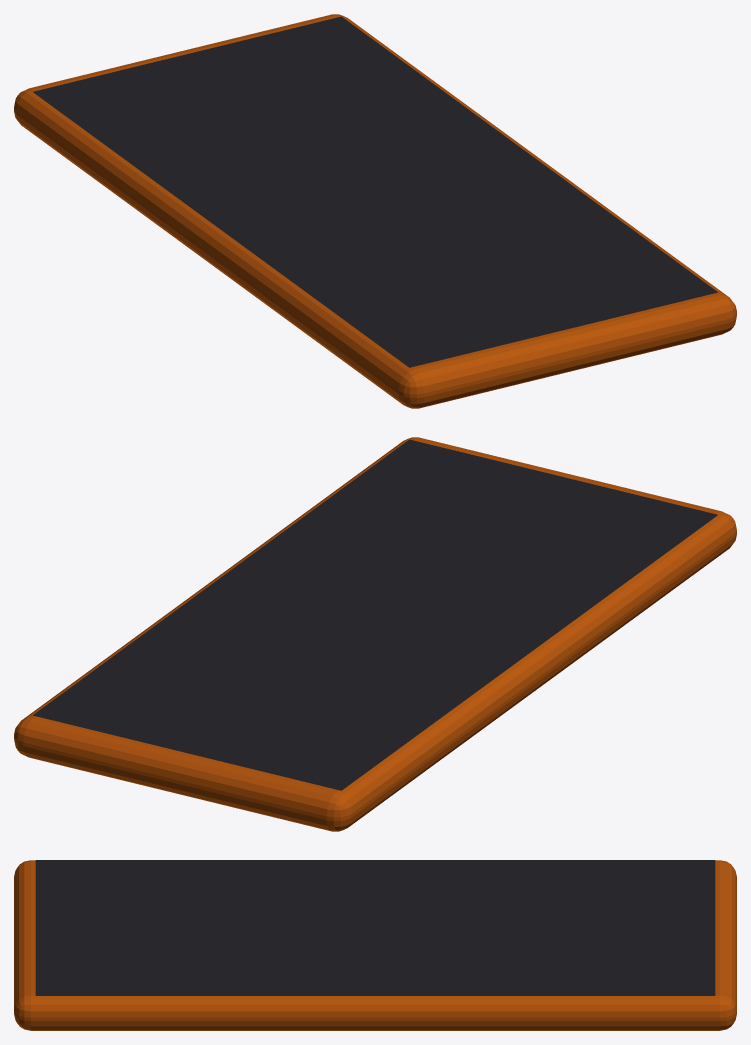
File: vivo-v-model-6-flagship-2022.glb
3 views of the same model, one above another, from view 1: azimuth 30°, elevation 25°; view 2: azimuth 150°, elevation 25°; view 3: azimuth 270°, elevation 25° (orthographic). The views are drawn at different scales.
Visible parts, largest first — view 1: Phone_Screen, Phone_Body; view 2: Phone_Screen, Phone_Body; view 3: Phone_Screen, Phone_Body.
Part boxes in pixels (<box>): Phone_Screen: <box>33,16,717,367</box>; Phone_Body: <box>14,14,736,408</box>; Phone_Screen: <box>33,439,717,790</box>; Phone_Body: <box>14,437,736,831</box>; Phone_Screen: <box>35,860,715,995</box>; Phone_Body: <box>14,860,736,1030</box>.
Bounding box in the file's own units: 0.0782 × 0.0085 × 0.1617.
